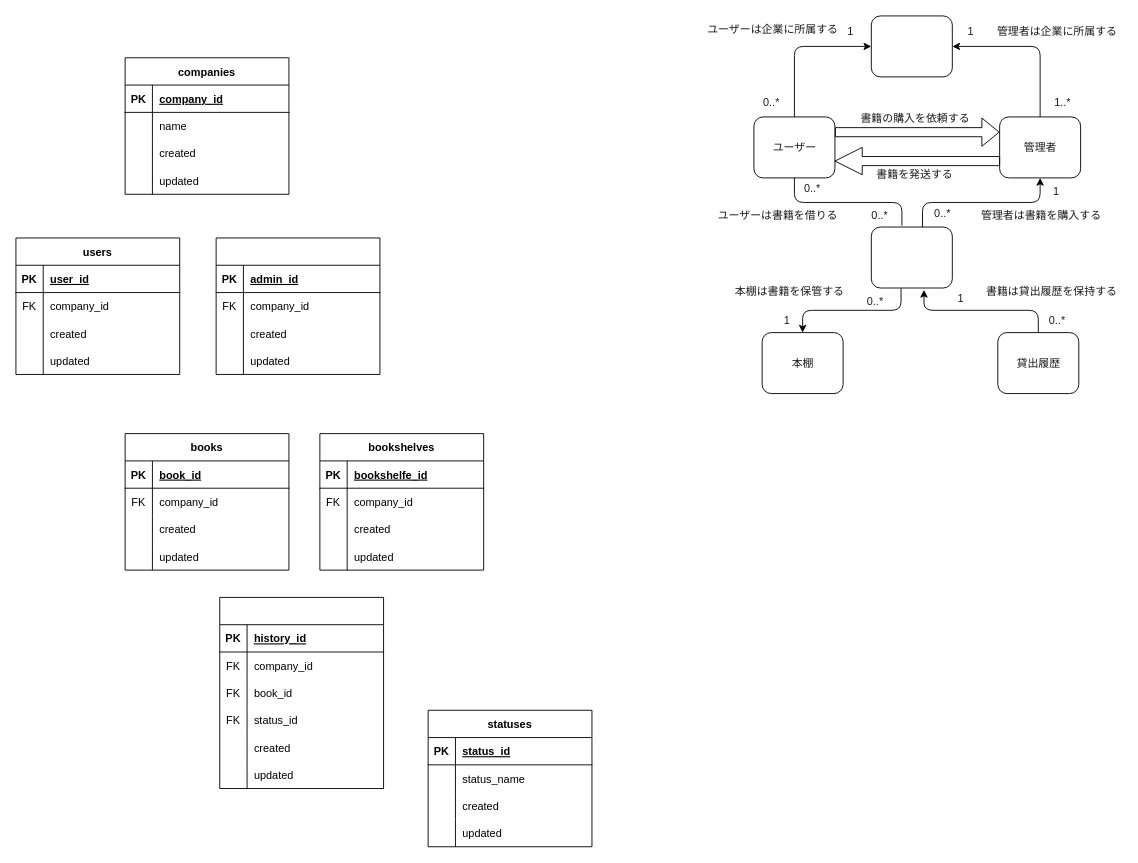
Image size: 1138x863. Some labels were removed from this diagram. The box of each missing label's shape, as (x1, y1, x2, y2) in pixels:
administrators: (215, 237, 380, 374)
lending_histories: (219, 597, 384, 789)
企業: (870, 15, 952, 77)
書籍: (870, 226, 952, 288)
